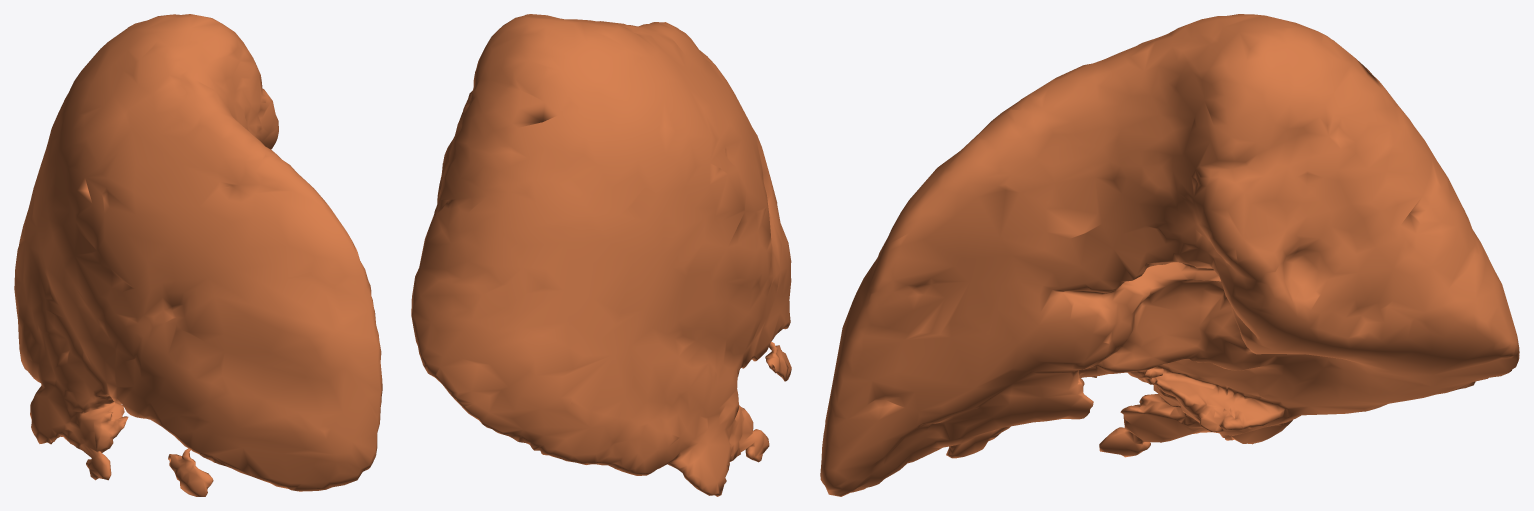
The picture shows the model from 3 angles, left to right: view 1: azimuth 30°, elevation 25°; view 2: azimuth 150°, elevation 25°; view 3: azimuth 270°, elevation 25°; orthographic projection. The views are drawn at different scales.
Visible parts, largest first — view 1: Polygonal_Model_10_Triangles_0; view 2: Polygonal_Model_10_Triangles_0; view 3: Polygonal_Model_10_Triangles_0.
Boxes of the visible parts, bbox=[...] form: Polygonal_Model_10_Triangles_0: bbox=[14, 14, 382, 496]; Polygonal_Model_10_Triangles_0: bbox=[411, 14, 791, 496]; Polygonal_Model_10_Triangles_0: bbox=[820, 14, 1519, 496].
Bounding box in the file's own units: 4.18 × 6.59 × 8.06.
